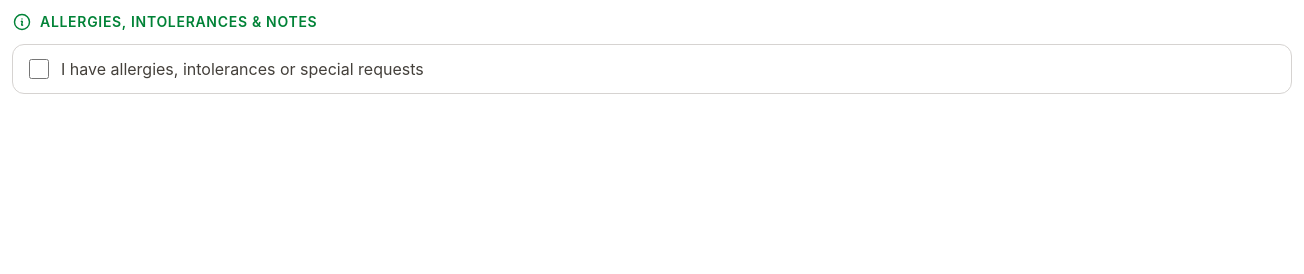
Test: RequirementsFields › hides the textbox when unchecked while preserving the typed text
Click the checkbox.
click(39, 69)  # box [29,59,49,79]
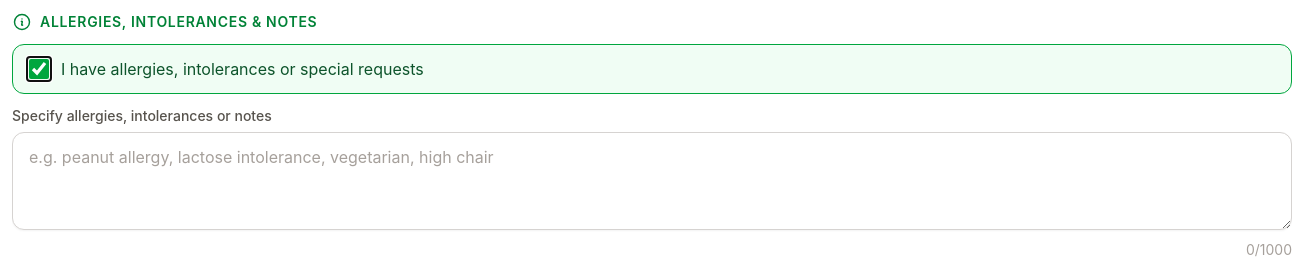
Type "Peanut allergy" into the text box labelled "Specify allergies, intolerances or notes".
click(652, 181); type("Peanut allergy")  # box [12,132,1292,230]
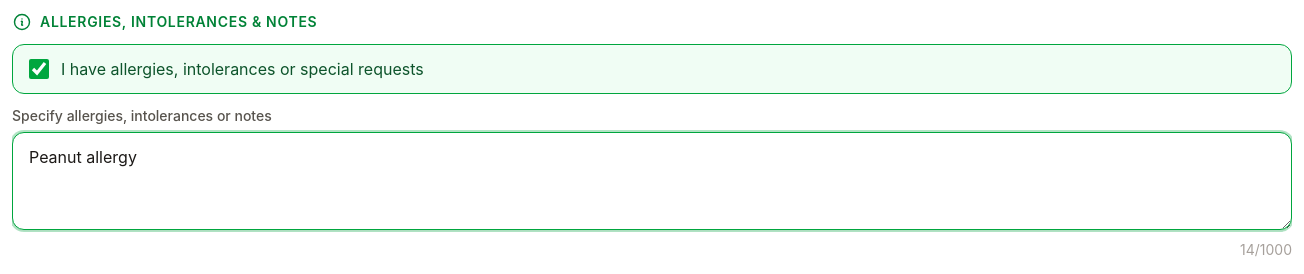
Click the checkbox.
click(39, 69)  # box [29,59,49,79]
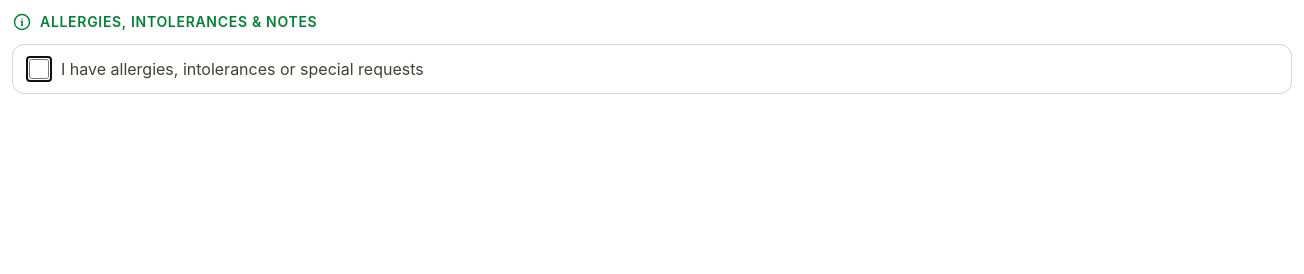
Expected: the label labelled "Specify allergies, intolerances or notes" is gone
Click the checkbox.
click(39, 69)  # box [29,59,49,79]
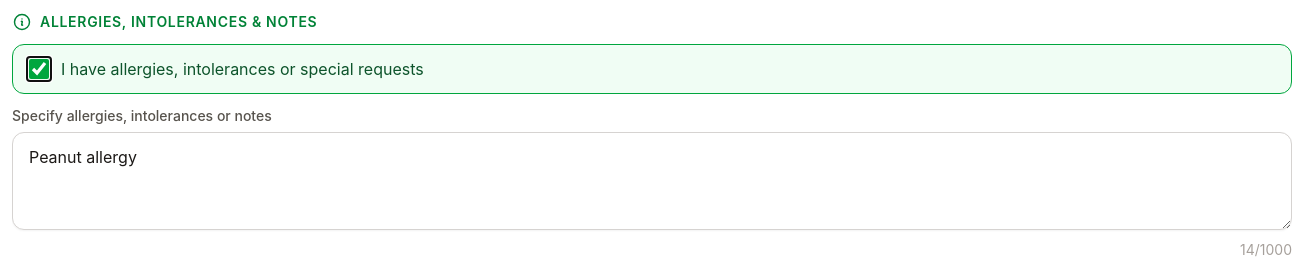
Expected: the text box labelled "Specify allergies, intolerances or notes" holds "Peanut allergy", [12,132,1292,230]
